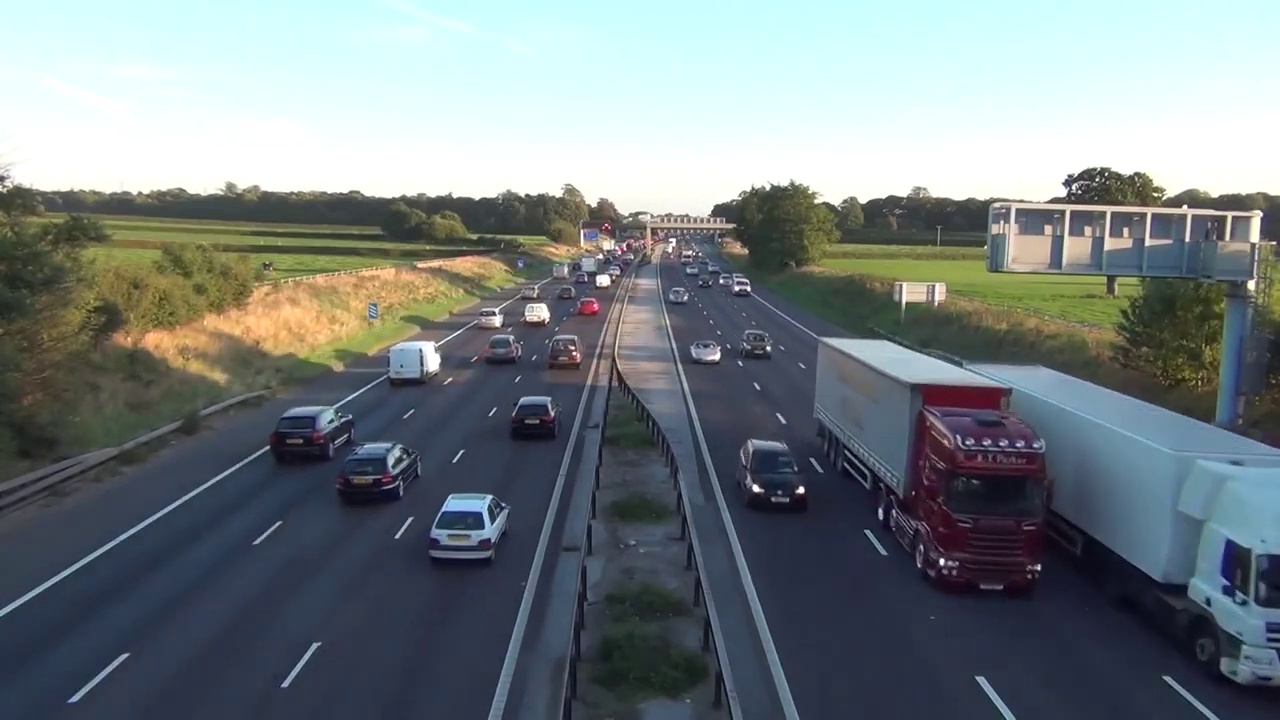bus: (429, 493, 510, 564), (337, 442, 421, 500), (739, 439, 806, 510), (269, 406, 353, 459), (509, 396, 561, 436), (485, 334, 524, 363), (551, 335, 583, 369), (740, 330, 774, 359), (690, 340, 721, 363), (477, 309, 503, 330), (576, 298, 599, 315), (668, 287, 687, 304), (696, 276, 714, 288)
car: (1042, 365, 1280, 686), (813, 340, 1050, 586)
lorry: (386, 342, 441, 382), (524, 302, 550, 326), (732, 278, 751, 296)
